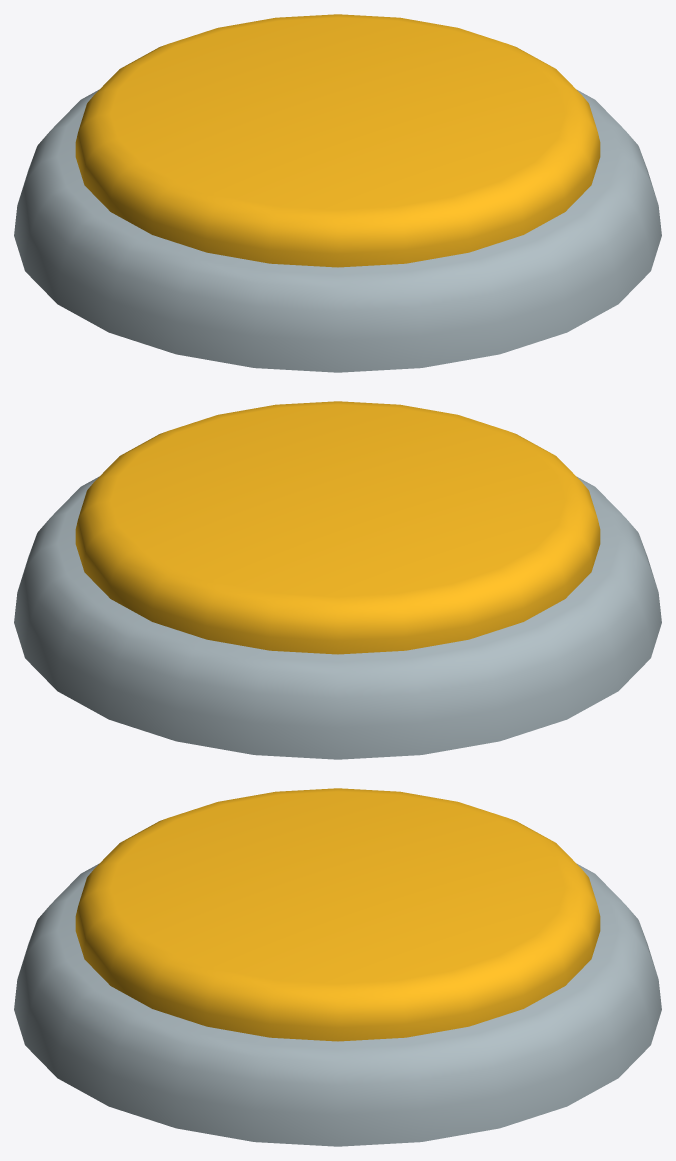
Rendered from button_teamYellow.glb.
3 renders of one model, top to bottom at view 1: azimuth 30°, elevation 25°; view 2: azimuth 150°, elevation 25°; view 3: azimuth 270°, elevation 25°, orthographic.
Parts seen in each view (by area): view 1: button_teamYellow; view 2: button_teamYellow; view 3: button_teamYellow.
Part boxes in pixels (x1,y1,x2,y2): button_teamYellow: [14, 14, 661, 372]; button_teamYellow: [14, 401, 661, 759]; button_teamYellow: [14, 788, 661, 1146].
Size of the model in its own units: 0.5718 by 0.1188 by 0.5718.
